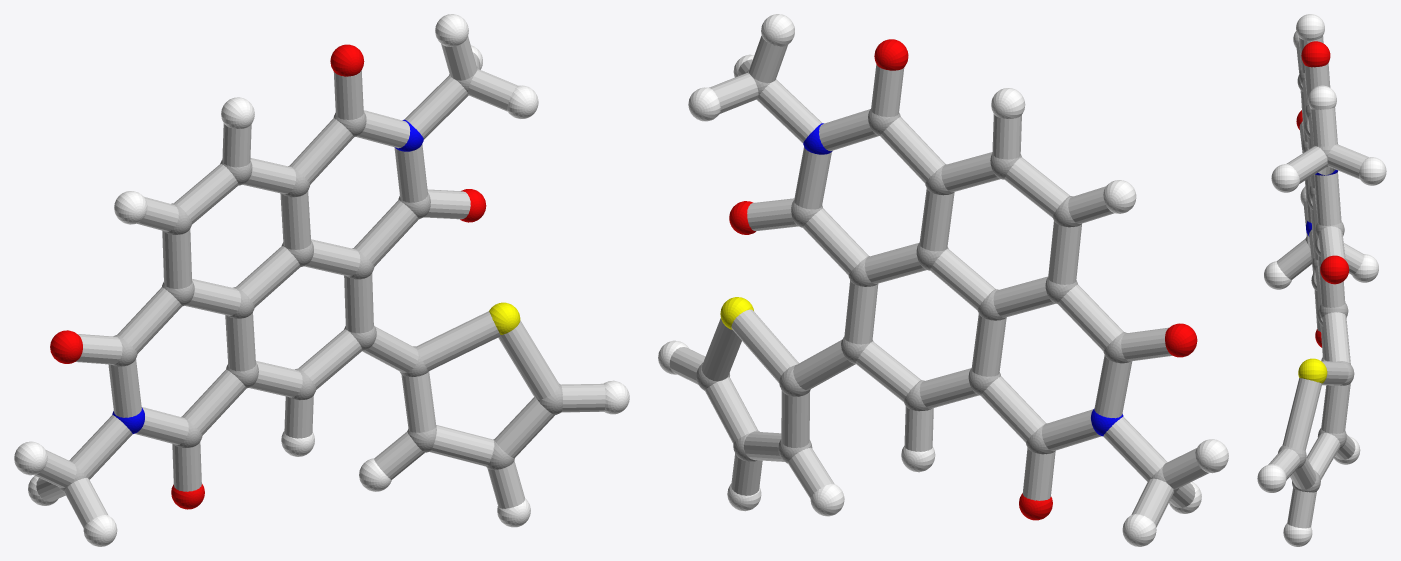
Rendered from Dimethyl_Naphthalene_Dicarboximide_Phi_25_Theta_190_Thiophene.glb.
3 views of the same model, side by side, from view 1: azimuth 30°, elevation 25°; view 2: azimuth 150°, elevation 25°; view 3: azimuth 270°, elevation 25° (orthographic). The views are drawn at different scales.
Parts seen in each view (by area): view 1: grp14119, grp7241, grp1, grp12309, grp11585, grp13757; view 2: grp14119, grp7241, grp1, grp12309, grp11585; view 3: grp14119, grp7241, grp1, grp12309, grp13757.
Boxes of the visible parts, <box> form: grp14119: <box>34,36,605,527</box>; grp7241: <box>14,14,629,546</box>; grp1: <box>58,67,562,491</box>; grp12309: <box>50,44,486,509</box>; grp11585: <box>112,119,423,433</box>; grp13757: <box>489,302,520,334</box>; grp14119: <box>669,36,1208,527</box>; grp7241: <box>658,14,1228,546</box>; grp1: <box>696,70,1178,493</box>; grp12309: <box>729,39,1197,520</box>; grp11585: <box>803,123,1123,436</box>; grp14119: <box>1268,36,1368,528</box>; grp7241: <box>1257,14,1386,546</box>; grp1: <box>1278,70,1354,492</box>; grp12309: <box>1296,41,1349,347</box>; grp13757: <box>1298,358,1327,383</box>.
Size of the model in its own units: 12 by 10.01 by 2.67.
